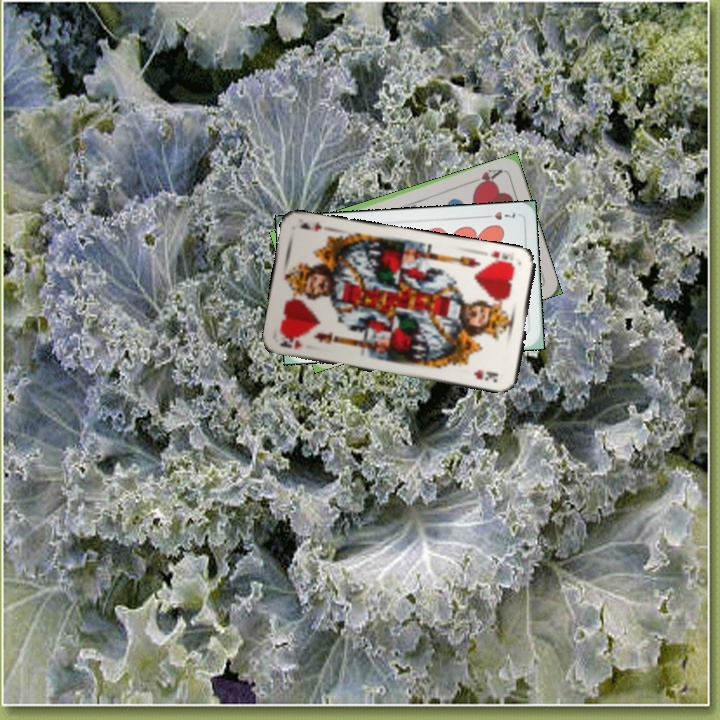H7: (479, 207, 518, 223)
HA: (467, 165, 505, 190)
HK: (485, 246, 518, 269), (276, 334, 304, 352)
